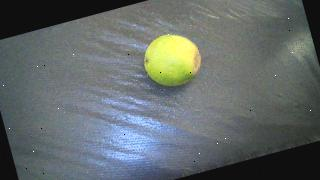DESECHO: (138, 28, 206, 93)
